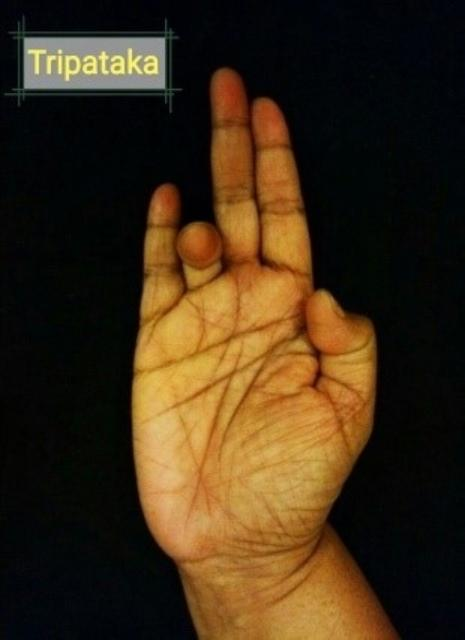tripataka: (131, 68, 403, 640)
